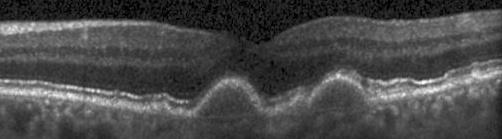retinal_drusen: (196, 83, 259, 119), (311, 80, 364, 110), (292, 97, 309, 112), (155, 102, 169, 115), (471, 68, 482, 82), (111, 97, 119, 108)
